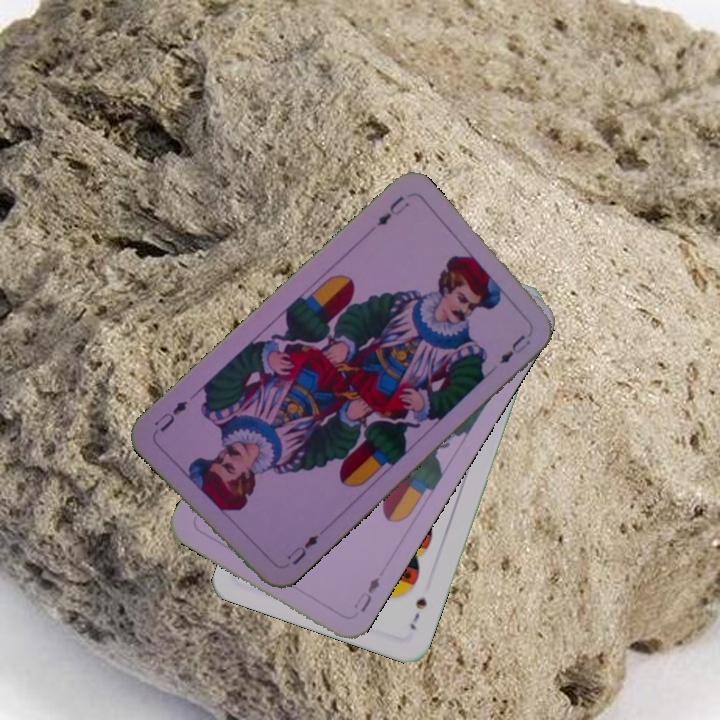EU: (282, 530, 322, 568), (372, 191, 412, 229), (350, 573, 383, 615)
S7: (406, 594, 430, 633)
